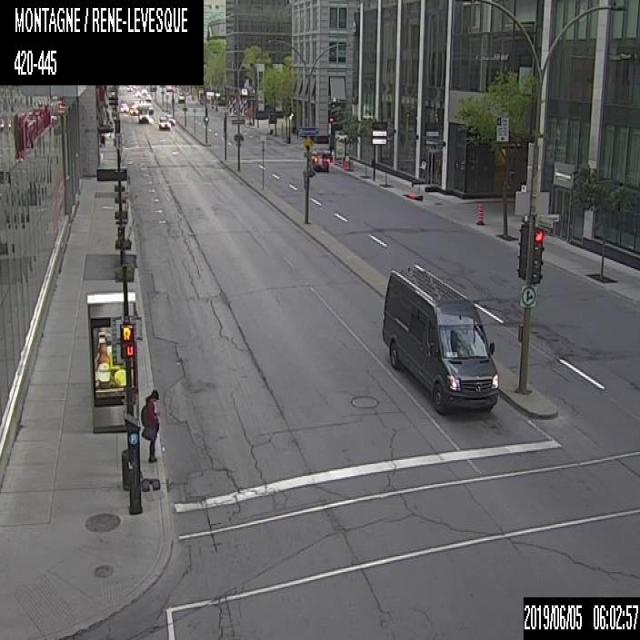construction: (477, 202, 484, 224), (408, 191, 419, 199)
pedestrian: (139, 388, 159, 461)
vehicle: (381, 261, 500, 416), (309, 148, 330, 170), (137, 102, 151, 123), (157, 116, 171, 129), (165, 113, 175, 124), (118, 102, 128, 111), (129, 106, 139, 114), (147, 102, 153, 114), (177, 94, 184, 102), (144, 93, 150, 101)
